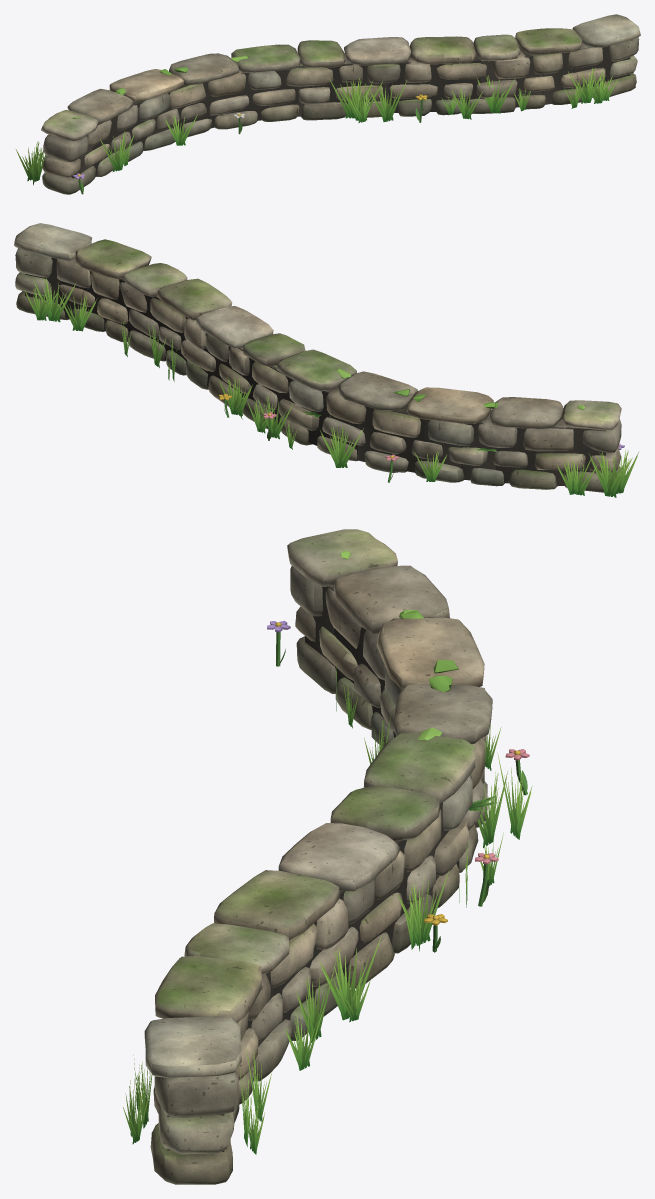
File: stone_wall_long.gltf
The picture shows the model from 3 angles, top to bottom: view 1: azimuth 30°, elevation 25°; view 2: azimuth 150°, elevation 25°; view 3: azimuth 270°, elevation 25°; orthographic projection. The views are drawn at different scales.
Parts seen in each view (by area): view 1: Wall, Core, Greenery; view 2: Wall, Core, Greenery; view 3: Wall, Greenery, Core.
Part boxes in pixels (x1=…): Wall: x1=41, y1=14, x2=640, y2=194; Core: x1=71, y1=46, x2=630, y2=194; Greenery: x1=16, y1=68, x2=617, y2=185; Wall: x1=14, y1=223, x2=621, y2=492; Core: x1=25, y1=257, x2=624, y2=485; Greenery: x1=25, y1=277, x2=639, y2=497; Wall: x1=144, y1=529, x2=492, y2=1184; Greenery: x1=123, y1=662, x2=532, y2=1154; Core: x1=167, y1=551, x2=529, y2=1151.
Bounding box in the file's own units: 7.36 × 0.8181 × 2.29.
Materials: 12 (2 with a texture image).
